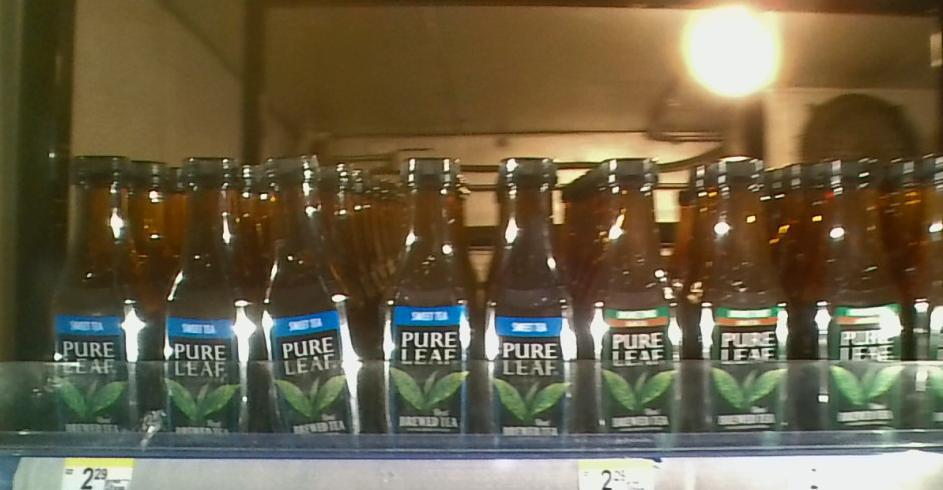bottle: (688, 150, 813, 440), (51, 140, 164, 432), (584, 148, 691, 433), (261, 151, 366, 437), (164, 155, 269, 435), (482, 147, 580, 434), (816, 156, 914, 434), (377, 152, 471, 434)
